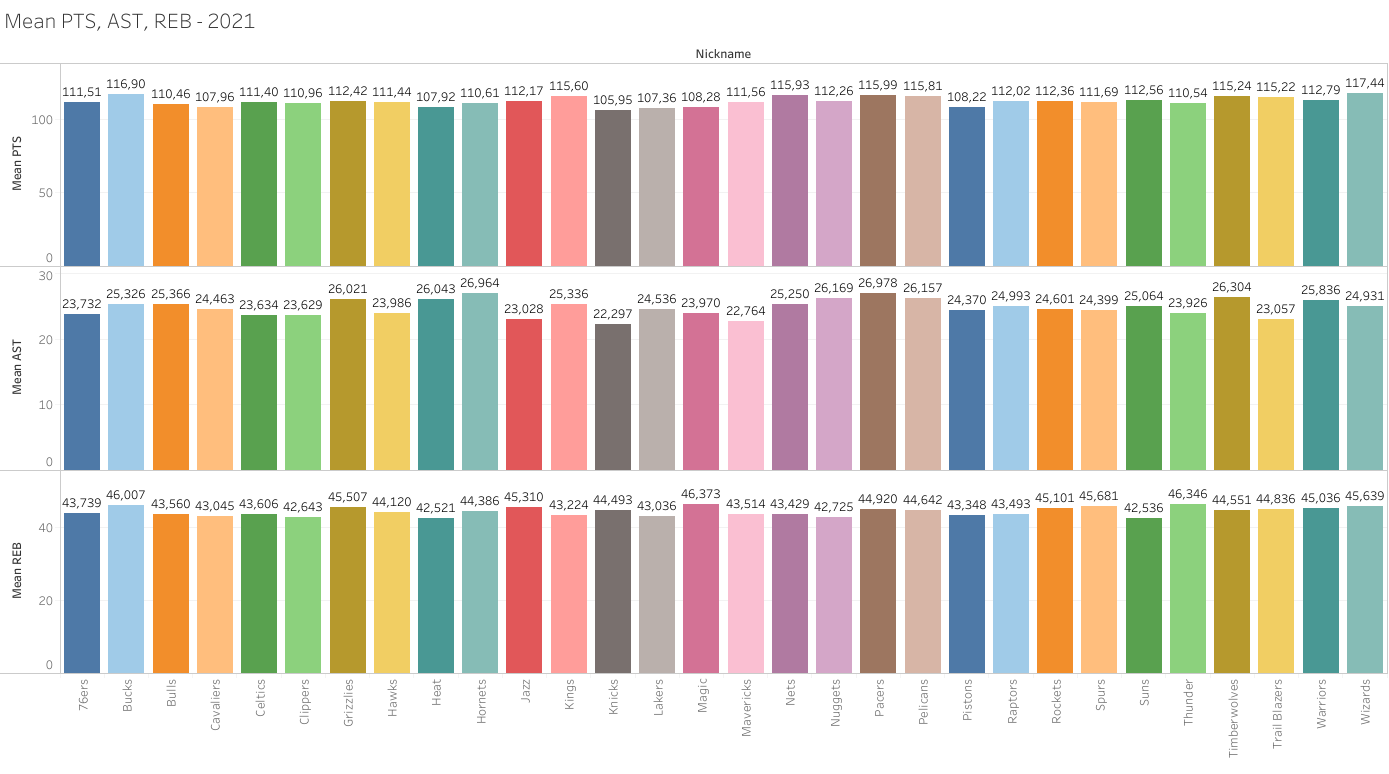

The dashboard page shown, as its layout file describes it:
{"tool":"tableau","page":{"name":"Dashboard 1","canvas":[1000,800],"ordinal":0},"visuals":[{"type":"currpage","title":"Mean PTS, AST, REB","box":[8,8,984,88]},{"type":"worksheet","title":"Mean PTS, AST, REB","mark":"Automatic","rows":["Mean PTS","Mean AST","Mean REB"],"cols":["NICKNAME"],"box":[8,96,984,696]}]}

Visuals, with their boxes on the page's 1000x800 design canvas (x1, y1, x2, y2). These are canvas units, not pixel positions in the 1389x774 screenshot, which may show the page scaled, cropped or inside an application window:
"Mean PTS, AST, REB" currpage: 8,8,992,96
"Mean PTS, AST, REB" worksheet: 8,96,992,792
